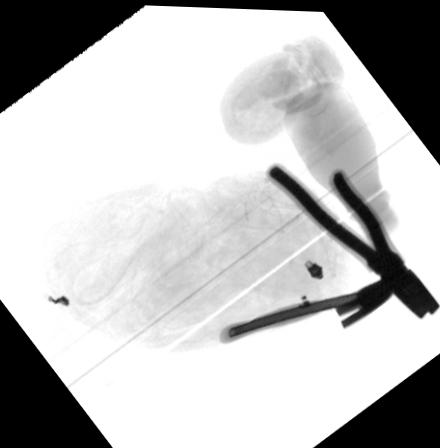Hammer: (217, 267, 402, 341)
Pliers: (264, 158, 439, 316)
